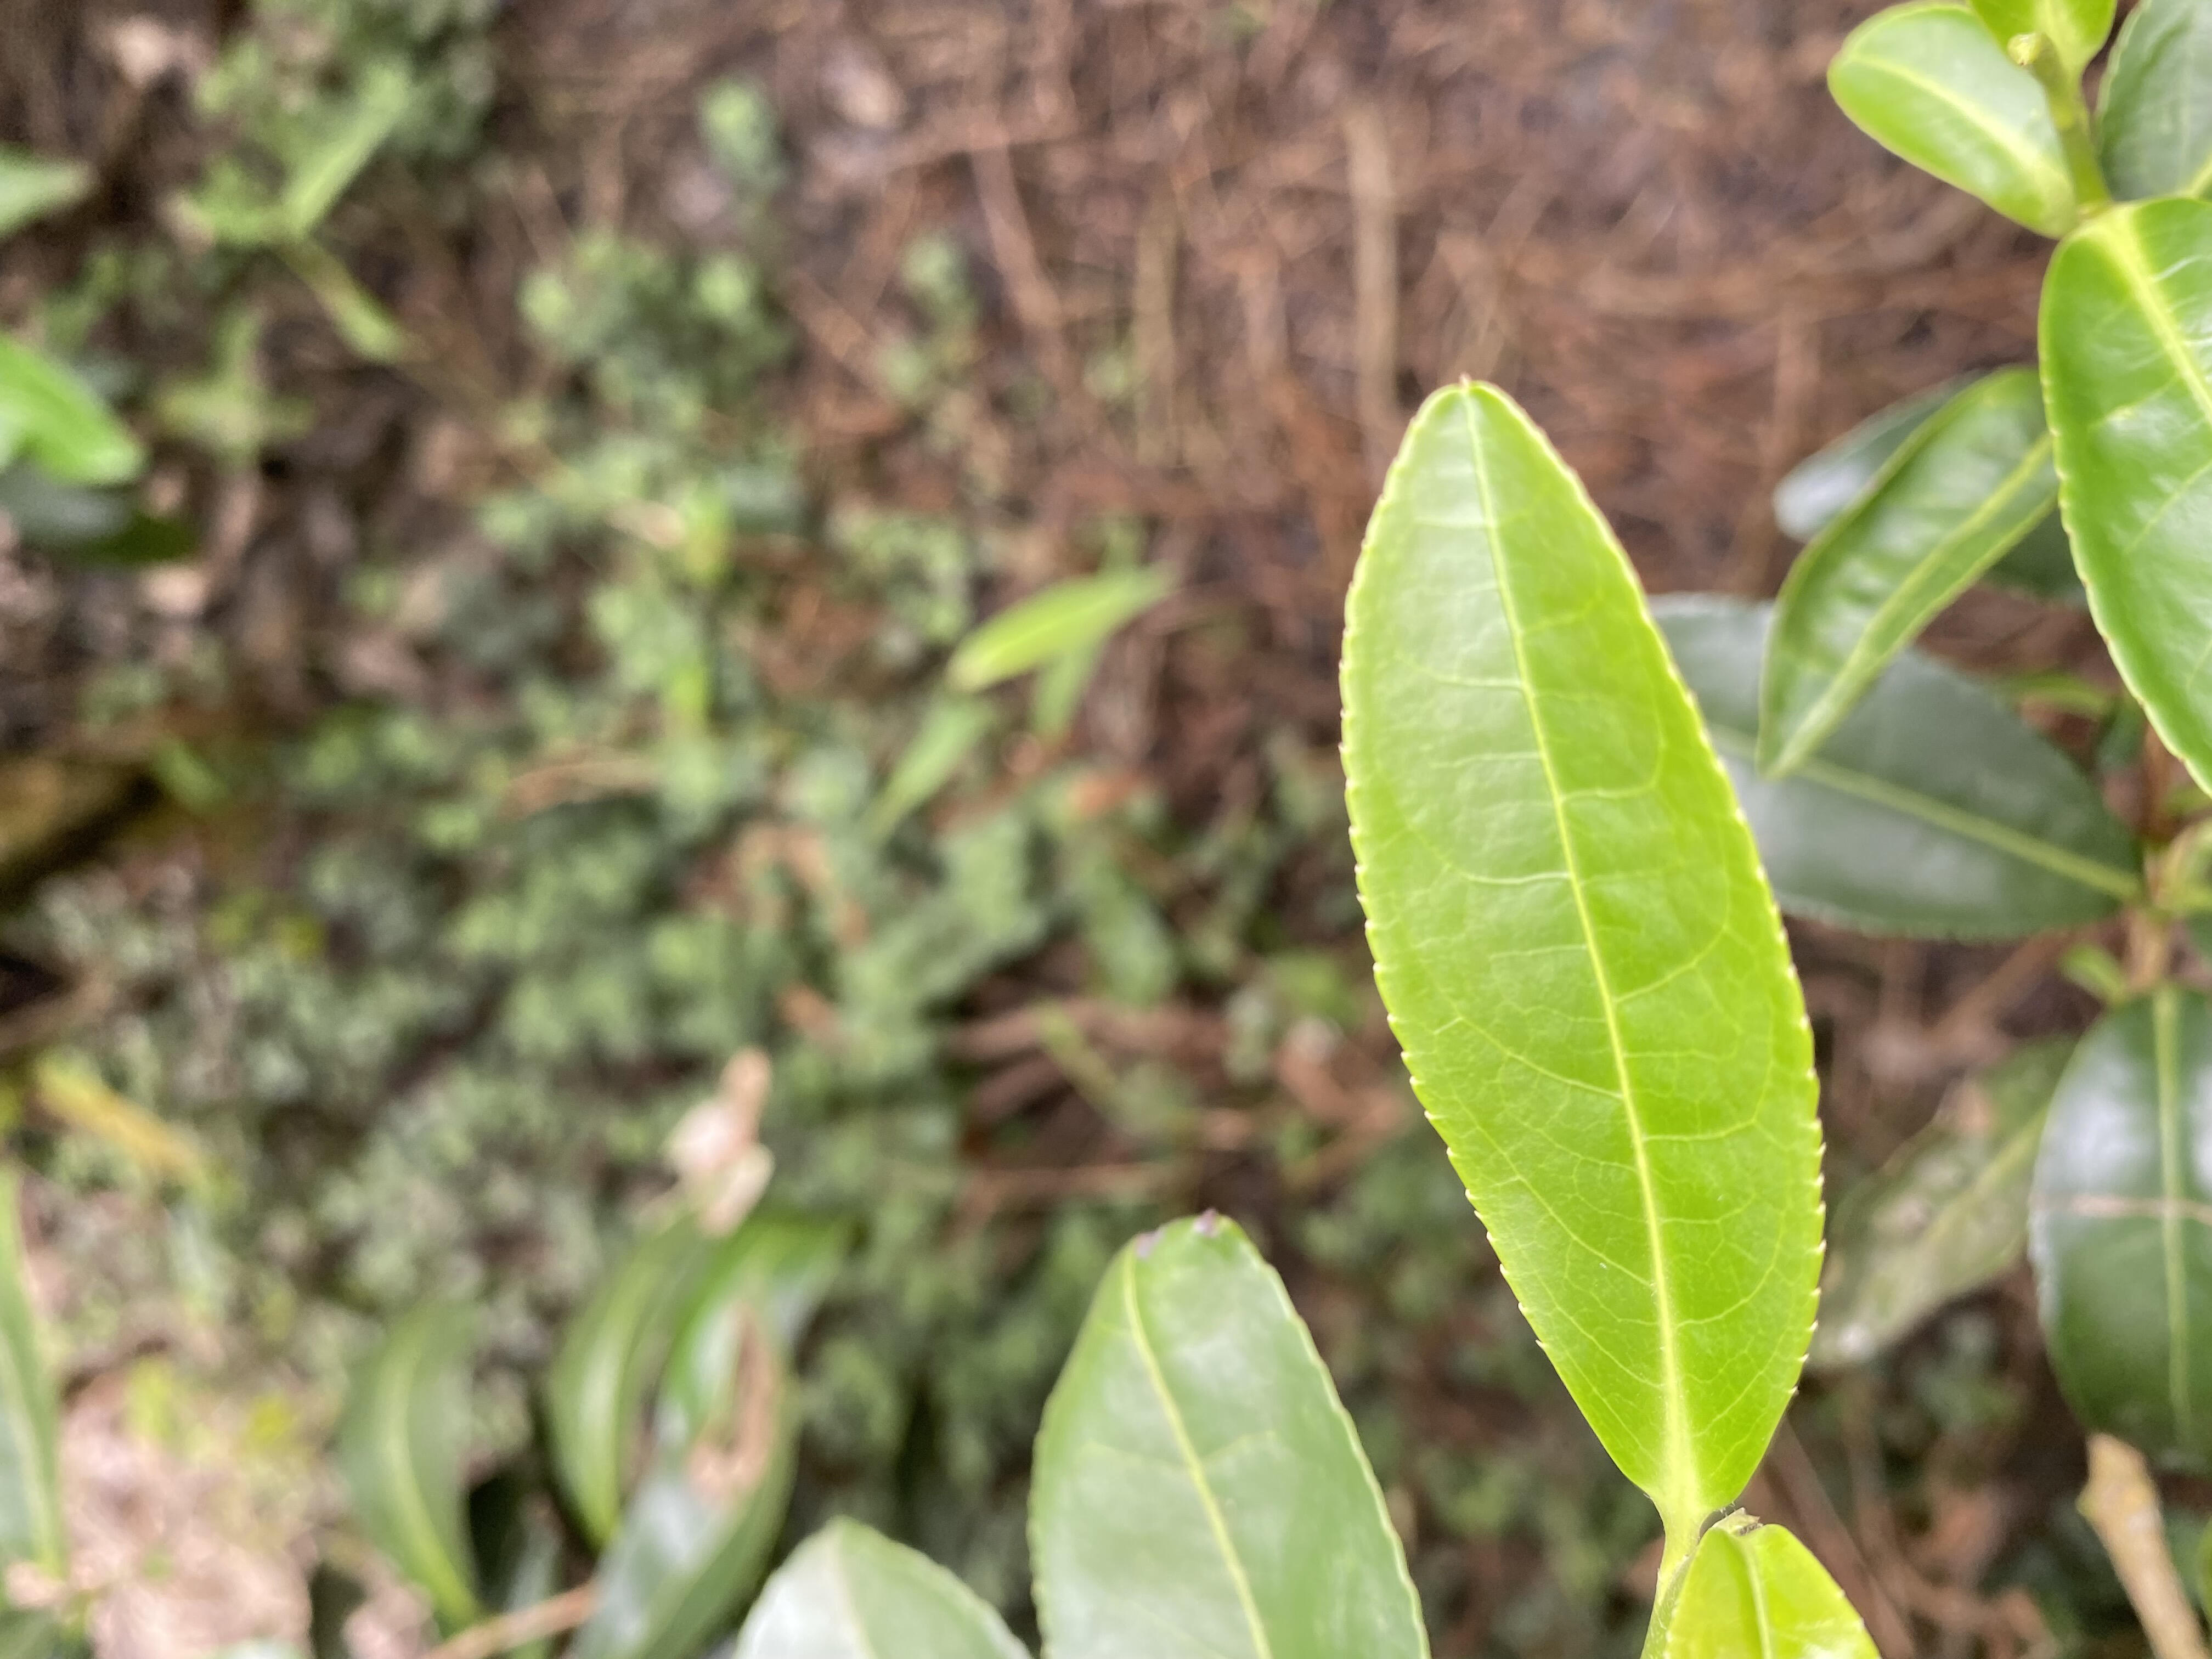healthy: (1331, 373, 1832, 1509)
